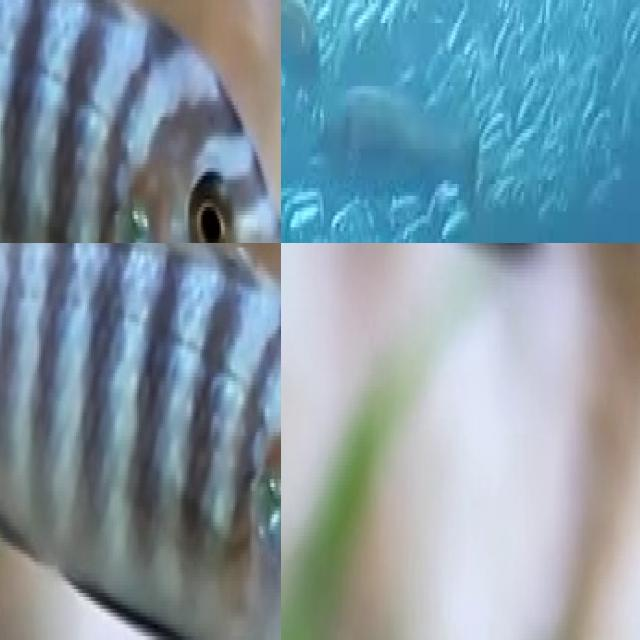fish: (0, 243, 281, 640), (0, 0, 281, 243)
